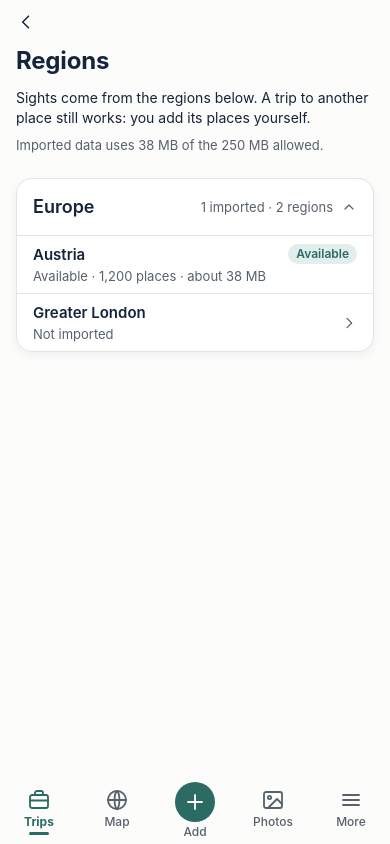
Test case: a refused import shows the server's reason
Click the button with test id "region-greater-london".
click(89, 312)  # box [17,294,373,351]
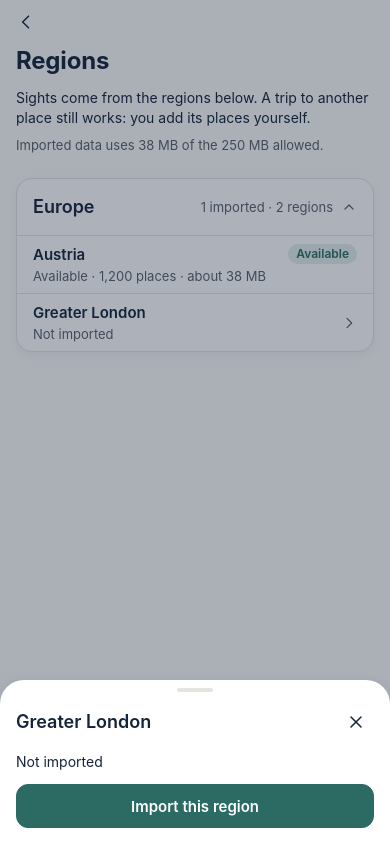
Click the button with test id "region-import".
click(195, 806)  # box [16,784,374,828]
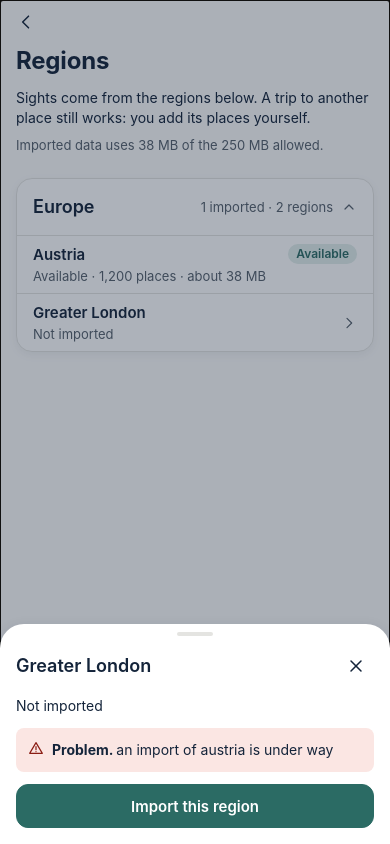
Expected: the button with test id "region-import" is shown, [16,784,374,828]
Expected: the text "Problem. an import of austria is under way" is shown, [52,740,362,760]
